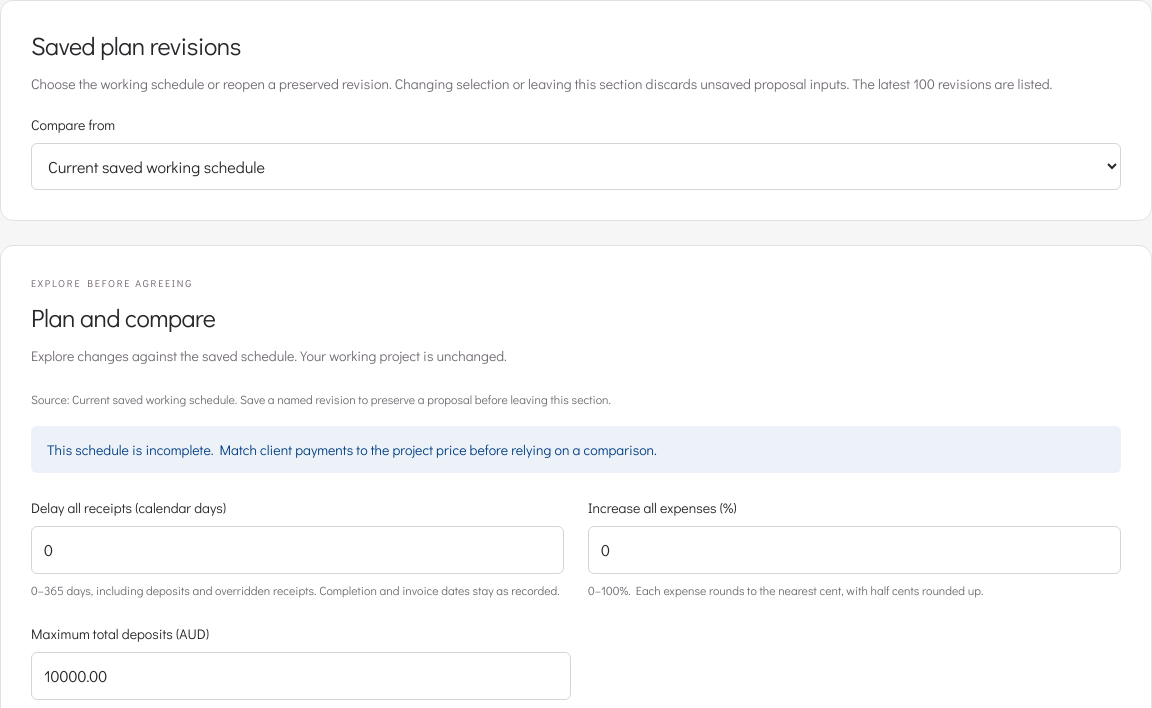
Test: reopens a preserved baseline even when the working schedule has changed
Select "Original terms · 15/10/2026, 12:00:00 am" in the dropdown labelled "Compare from" at (576, 166), box [31,143,1121,190]
(page scrolled)
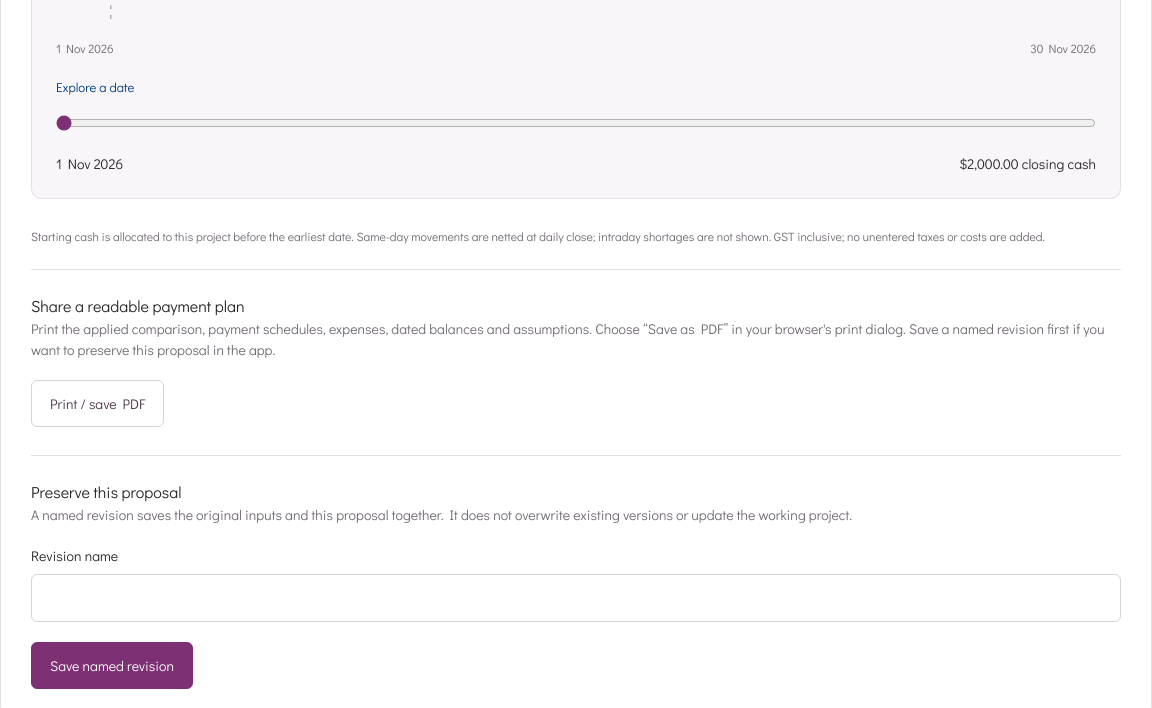
expect the button "Save named revision" is enabled: met, box [31,642,193,689]
